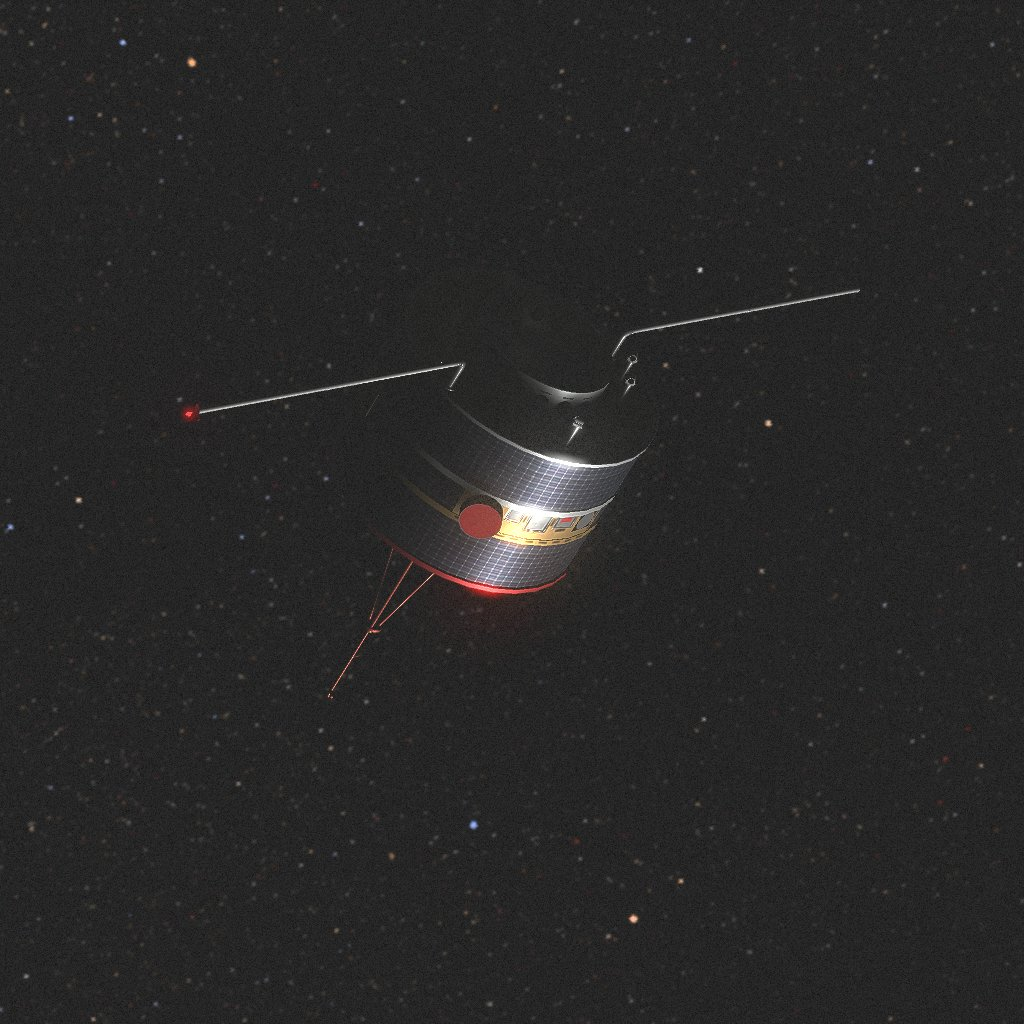double_star: (184, 268, 860, 698)
